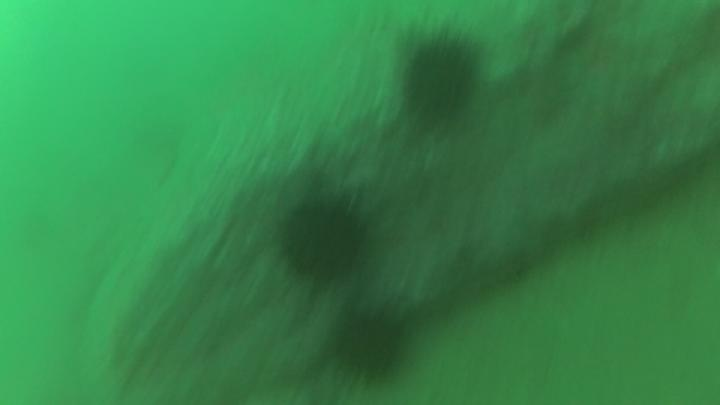echinus: (276, 190, 373, 284), (397, 29, 484, 129), (327, 302, 413, 386)
